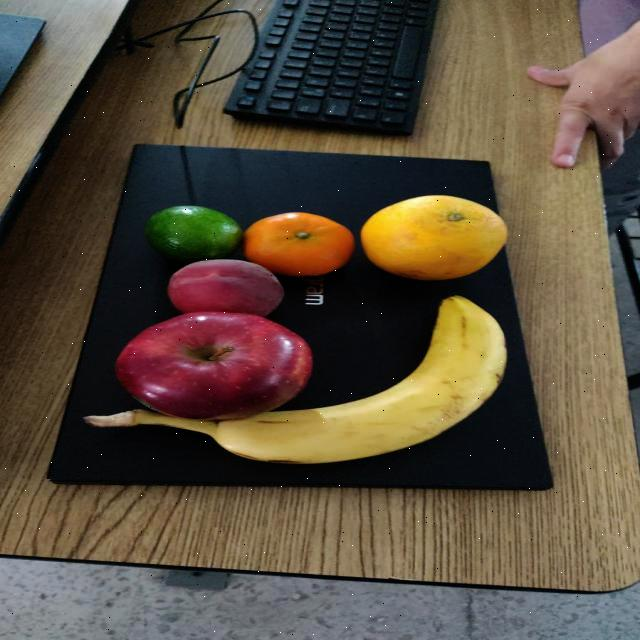Apel Merah: (109, 307, 322, 423)
Jeruk: (353, 191, 516, 286)
Jeruk Mandarin: (236, 205, 360, 280)
Lemon: (138, 202, 250, 263)
Persik: (158, 254, 292, 319)
Pisang: (74, 290, 530, 471)
